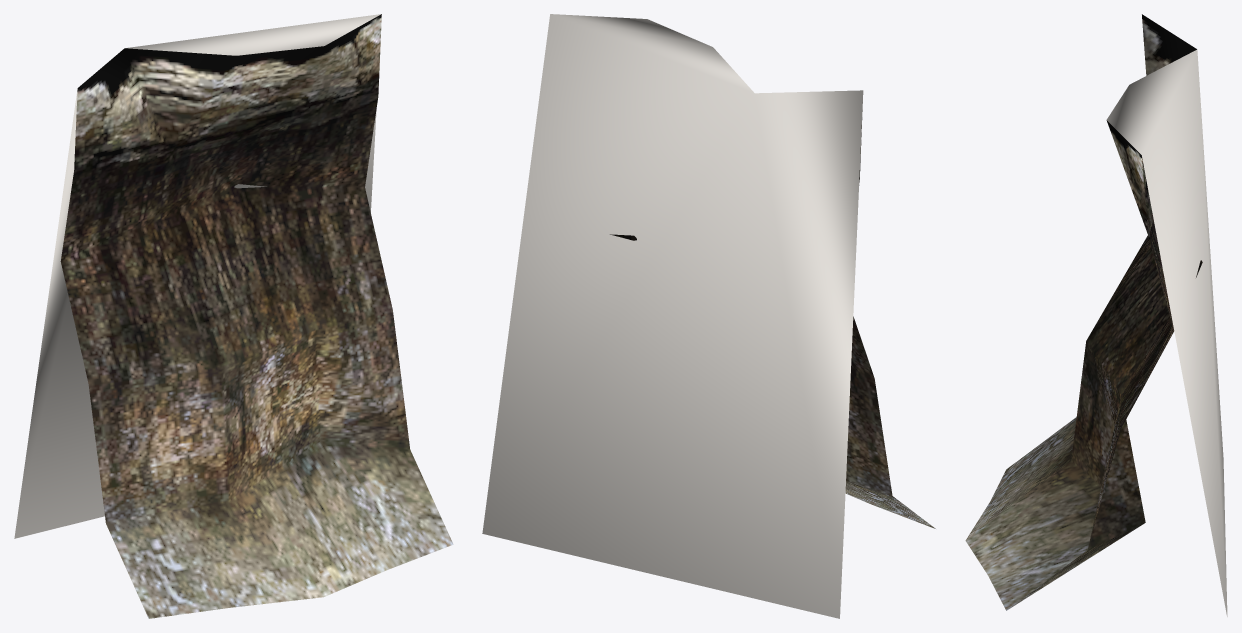
Rendered from idle.glb.
The picture shows the model from 3 angles, left to right: view 1: azimuth 30°, elevation 25°; view 2: azimuth 150°, elevation 25°; view 3: azimuth 270°, elevation 25°; orthographic projection. The views are drawn at different scales.
Visible parts, largest first — view 1: MeshRoot; view 2: MeshRoot; view 3: MeshRoot.
Boxes of the visible parts, <box> form: MeshRoot: <box>14,14,453,618</box>; MeshRoot: <box>482,14,935,618</box>; MeshRoot: <box>965,14,1227,616</box>.
Bounding box in the file's own units: 9.06 × 12 × 6.26.
Materials: 2 (1 with a texture image).
